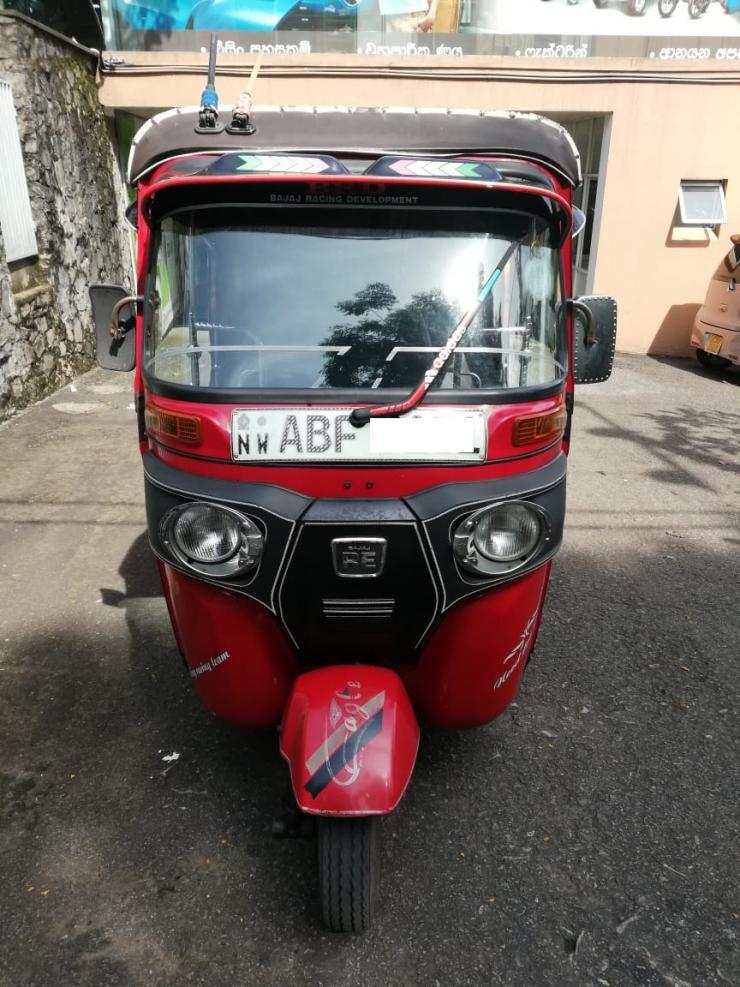threewheel: (91, 105, 619, 933)
